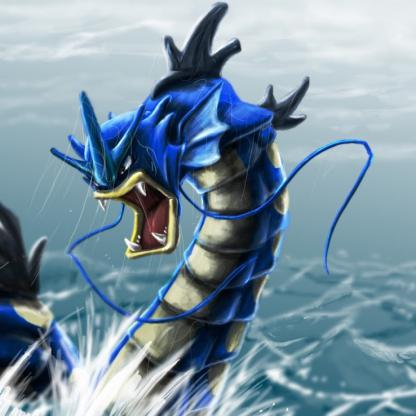Gyarados: (55, 26, 379, 356)
